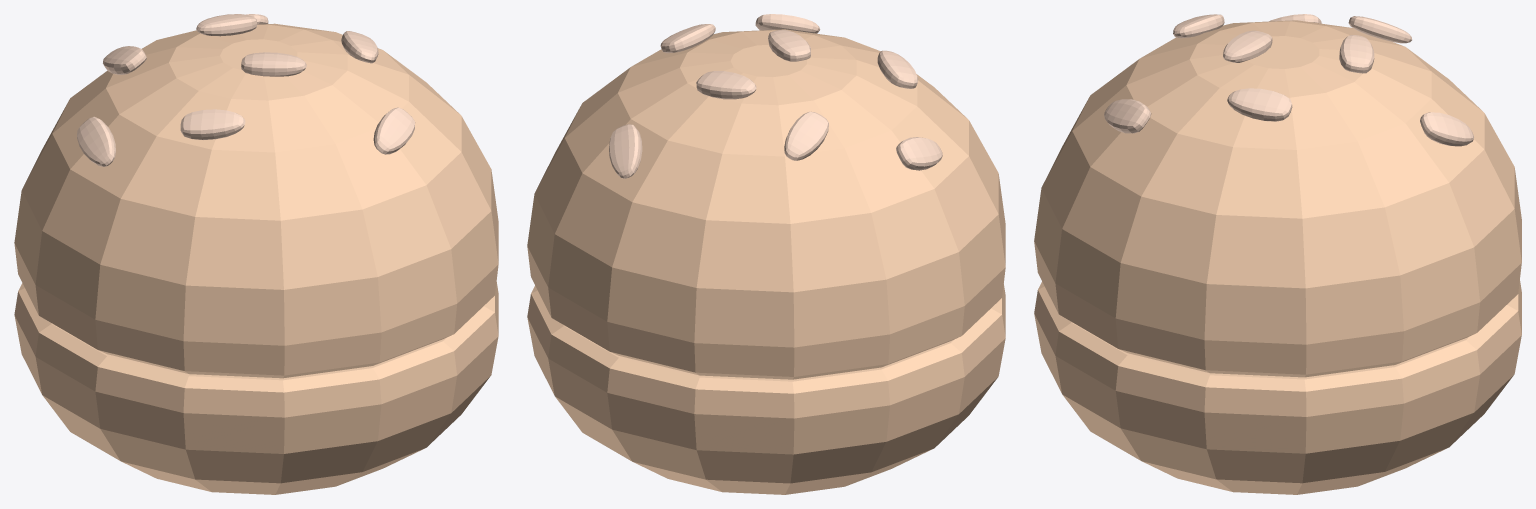
The model's file is HamburgerBread.fbx.
3 views of the same model, side by side, from view 1: azimuth 30°, elevation 25°; view 2: azimuth 150°, elevation 25°; view 3: azimuth 270°, elevation 25° (orthographic).
Visible parts, largest first — view 1: egmeg, egmeg.001, susams; view 2: egmeg, egmeg.001, susams; view 3: egmeg, egmeg.001, susams.
Boxes of the visible parts, x1,y1,x2,y2 form: egmeg: (14,23,498,378); egmeg.001: (14,282,498,494); susams: (77,14,415,166); egmeg: (527,29,1005,379); egmeg.001: (527,284,1005,494); susams: (609,14,942,178); egmeg: (1034,20,1521,377); egmeg.001: (1034,280,1521,494); susams: (1104,14,1473,146).
Size of the model in its own units: 192 by 179 by 191.
